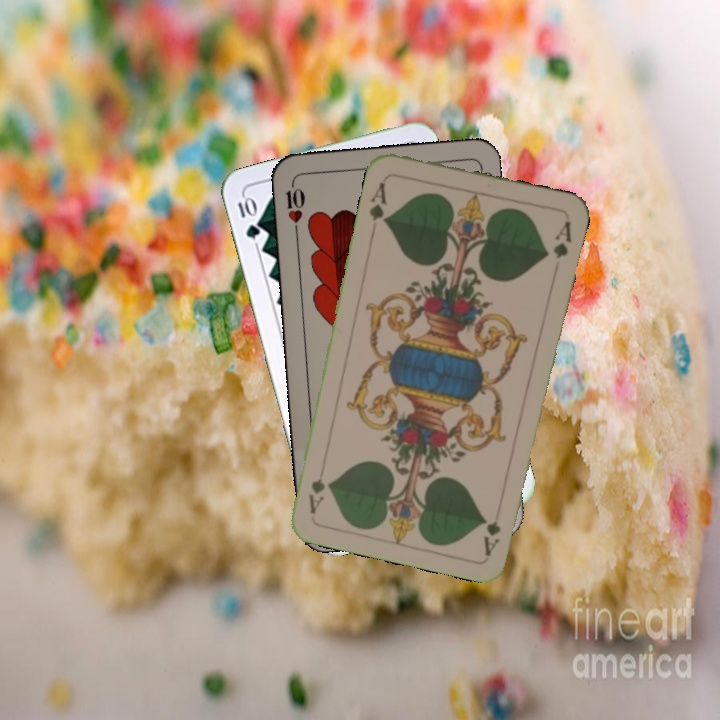G10: (233, 193, 263, 242)
GA: (365, 178, 390, 227), (479, 517, 504, 558)
H10: (282, 177, 308, 237)
